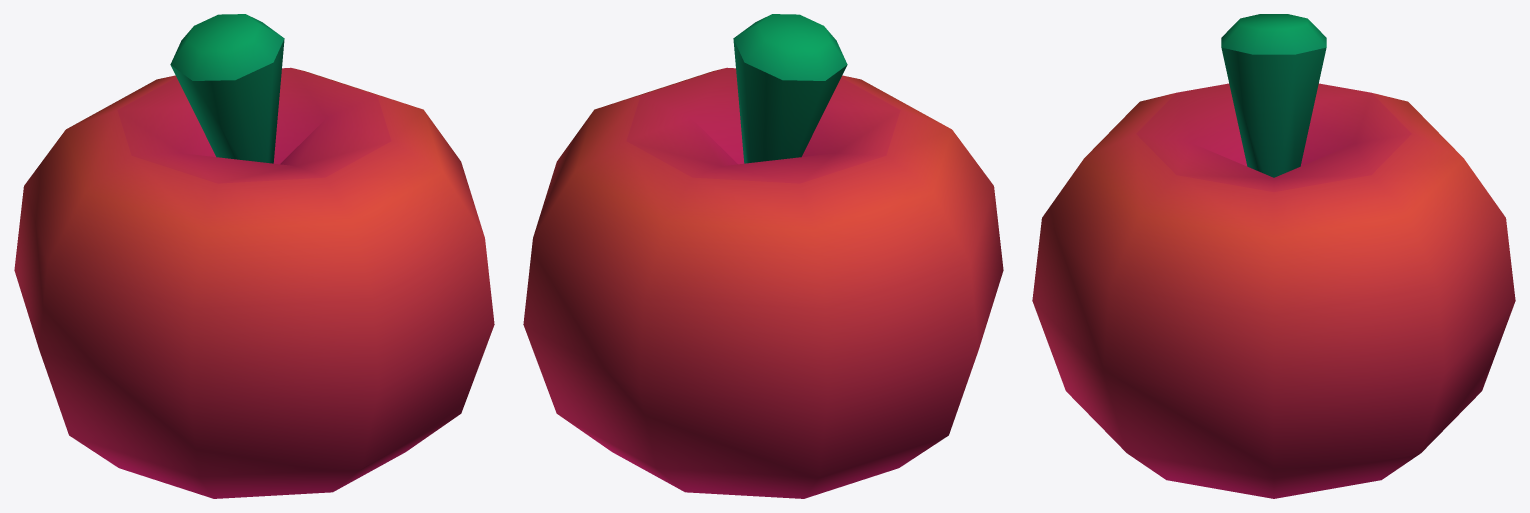
Rendered from icecream_cherry.obj.
3 views of the same model, side by side, from view 1: azimuth 30°, elevation 25°; view 2: azimuth 150°, elevation 25°; view 3: azimuth 270°, elevation 25° (orthographic). The views are drawn at different scales.
Visible parts, largest first — view 1: icecream_cherry_Sphere.162; view 2: icecream_cherry_Sphere.162; view 3: icecream_cherry_Sphere.162.
Boxes of the visible parts, bbox=[...] form: icecream_cherry_Sphere.162: bbox=[14, 14, 494, 498]; icecream_cherry_Sphere.162: bbox=[523, 14, 1003, 498]; icecream_cherry_Sphere.162: bbox=[1032, 14, 1515, 498].
Size of the model in its own units: 0.2443 by 0.2393 by 0.2443.
1 material, 1 textured.
